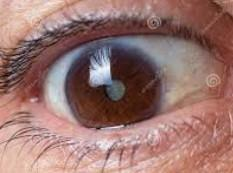eye: (63, 43, 163, 131)
